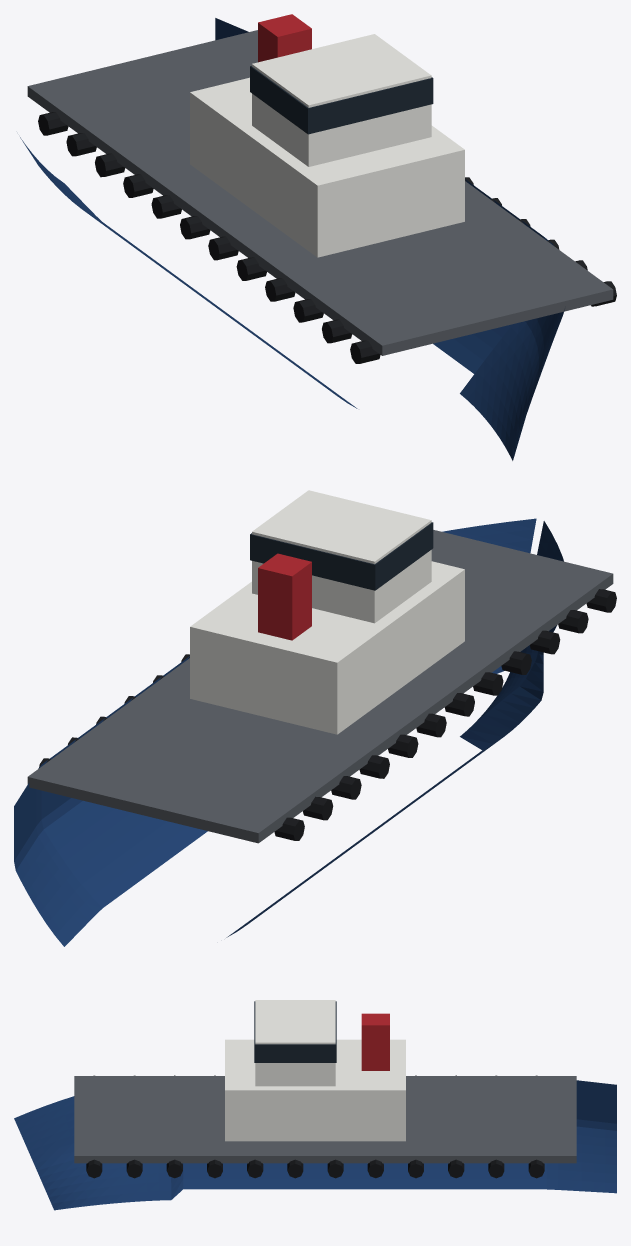
Rendered from tugboat.glb.
3 views of the same model, one above another, from view 1: azimuth 30°, elevation 25°; view 2: azimuth 150°, elevation 25°; view 3: azimuth 270°, elevation 25° (orthographic). The views are drawn at different scales.
Visible parts, largest first — view 1: tug; view 2: tug; view 3: tug.
Boxes of the visible parts, x1,y1,x2,y2 form: tug: (20, 14, 616, 460); tug: (14, 490, 616, 946); tug: (14, 1000, 616, 1210).
Bounding box in the file's own units: 10.4 × 10.5 × 30.
